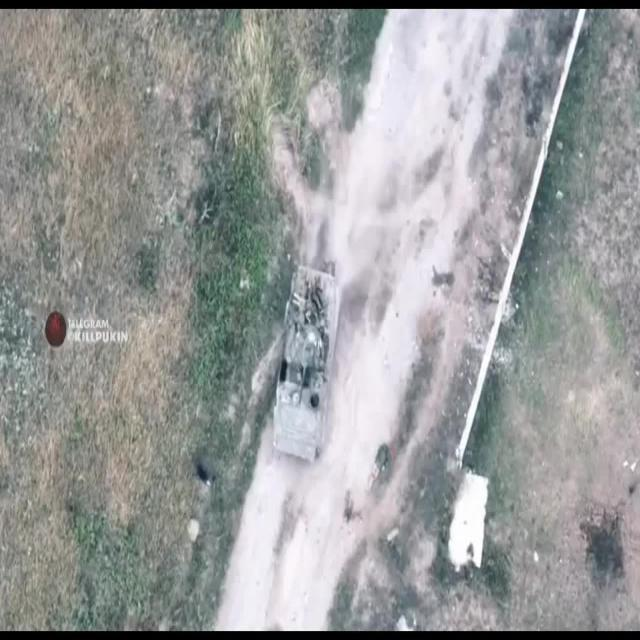apc: (272, 265, 340, 463)
